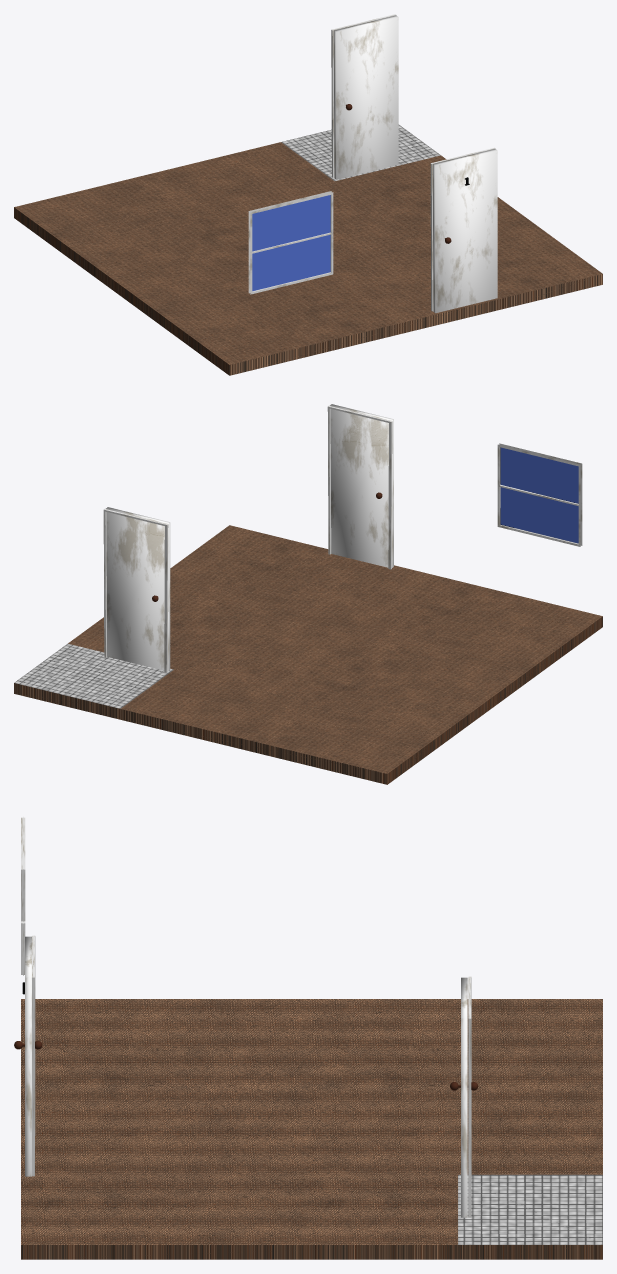
The model's file is HotelWindow.glb.
3 renders of one model, top to bottom at view 1: azimuth 30°, elevation 25°; view 2: azimuth 150°, elevation 25°; view 3: azimuth 270°, elevation 25°, orthographic. The views are drawn at different scales.
Parts seen in each view (by area): view 1: Floor.001LT, Door.003LT, Door.002LT, Glass.002LT, Window.001LT, Door Frame.003LT, Door Frame.002LT; view 2: Floor.001LT, Door.003LT, Door.002LT, Glass.002LT, Window.001LT, Door Frame.002LT, Door Frame.003LT; view 3: Floor.001LT, Door.002LT, Door.003LT, Door Frame.003LT, Door Frame.002LT, Window.001LT.
Part boxes in pixels (x1,y1,x2,y2): Floor.001LT: [14, 124, 602, 375]; Door.003LT: [334, 15, 398, 179]; Door.002LT: [433, 149, 497, 313]; Glass.002LT: [252, 195, 330, 291]; Window.001LT: [248, 191, 333, 294]; Door Frame.003LT: [331, 14, 395, 177]; Door Frame.002LT: [430, 147, 495, 311]; Floor.001LT: [14, 525, 602, 784]; Door.003LT: [105, 507, 170, 670]; Door.002LT: [330, 404, 393, 567]; Glass.002LT: [500, 447, 578, 543]; Window.001LT: [497, 443, 582, 546]; Door Frame.002LT: [327, 405, 392, 569]; Door Frame.003LT: [103, 509, 168, 672]; Floor.001LT: [21, 999, 602, 1259]; Door.002LT: [14, 936, 42, 1176]; Door.003LT: [450, 977, 478, 1217]; Door Frame.003LT: [468, 976, 471, 1217]; Door Frame.002LT: [32, 935, 35, 1176]; Window.001LT: [21, 816, 25, 975].
Bounding box in the file's own units: 5.49 × 2.23 × 5.55.
Materials: 6 (5 with a texture image).
